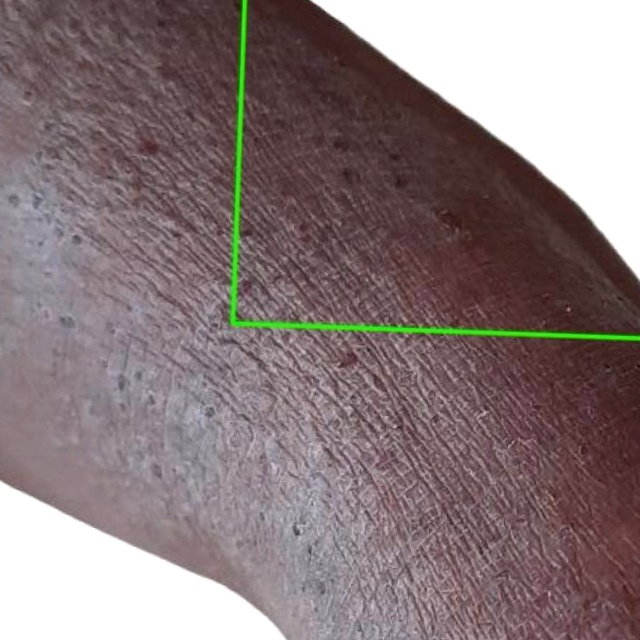Contact Dermatitis: (232, 0, 639, 338)
